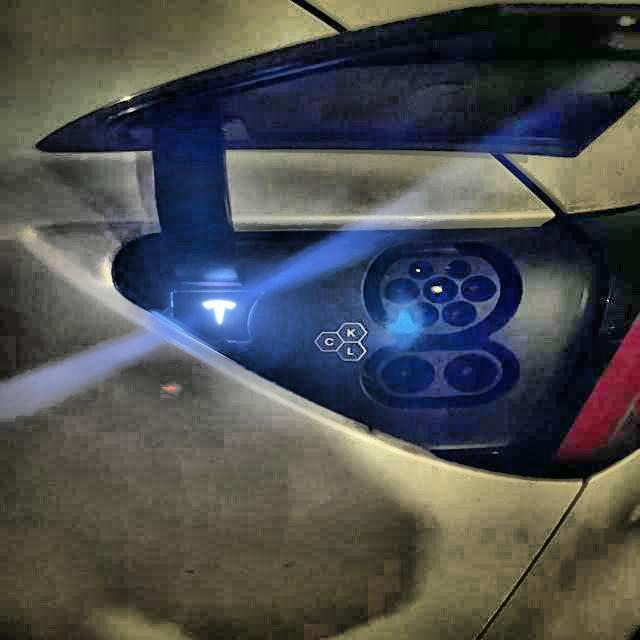inlet: (380, 256, 500, 334)
inlet-above-left: (409, 261, 433, 280)
inlet-above-right: (446, 260, 472, 279)
inlet-below-left: (405, 302, 439, 328)
inlet-below-right: (442, 301, 477, 327)
inlet-center: (422, 277, 457, 304)
inlet-center-left: (384, 278, 420, 305)
inlet-center-right: (461, 276, 496, 303)
